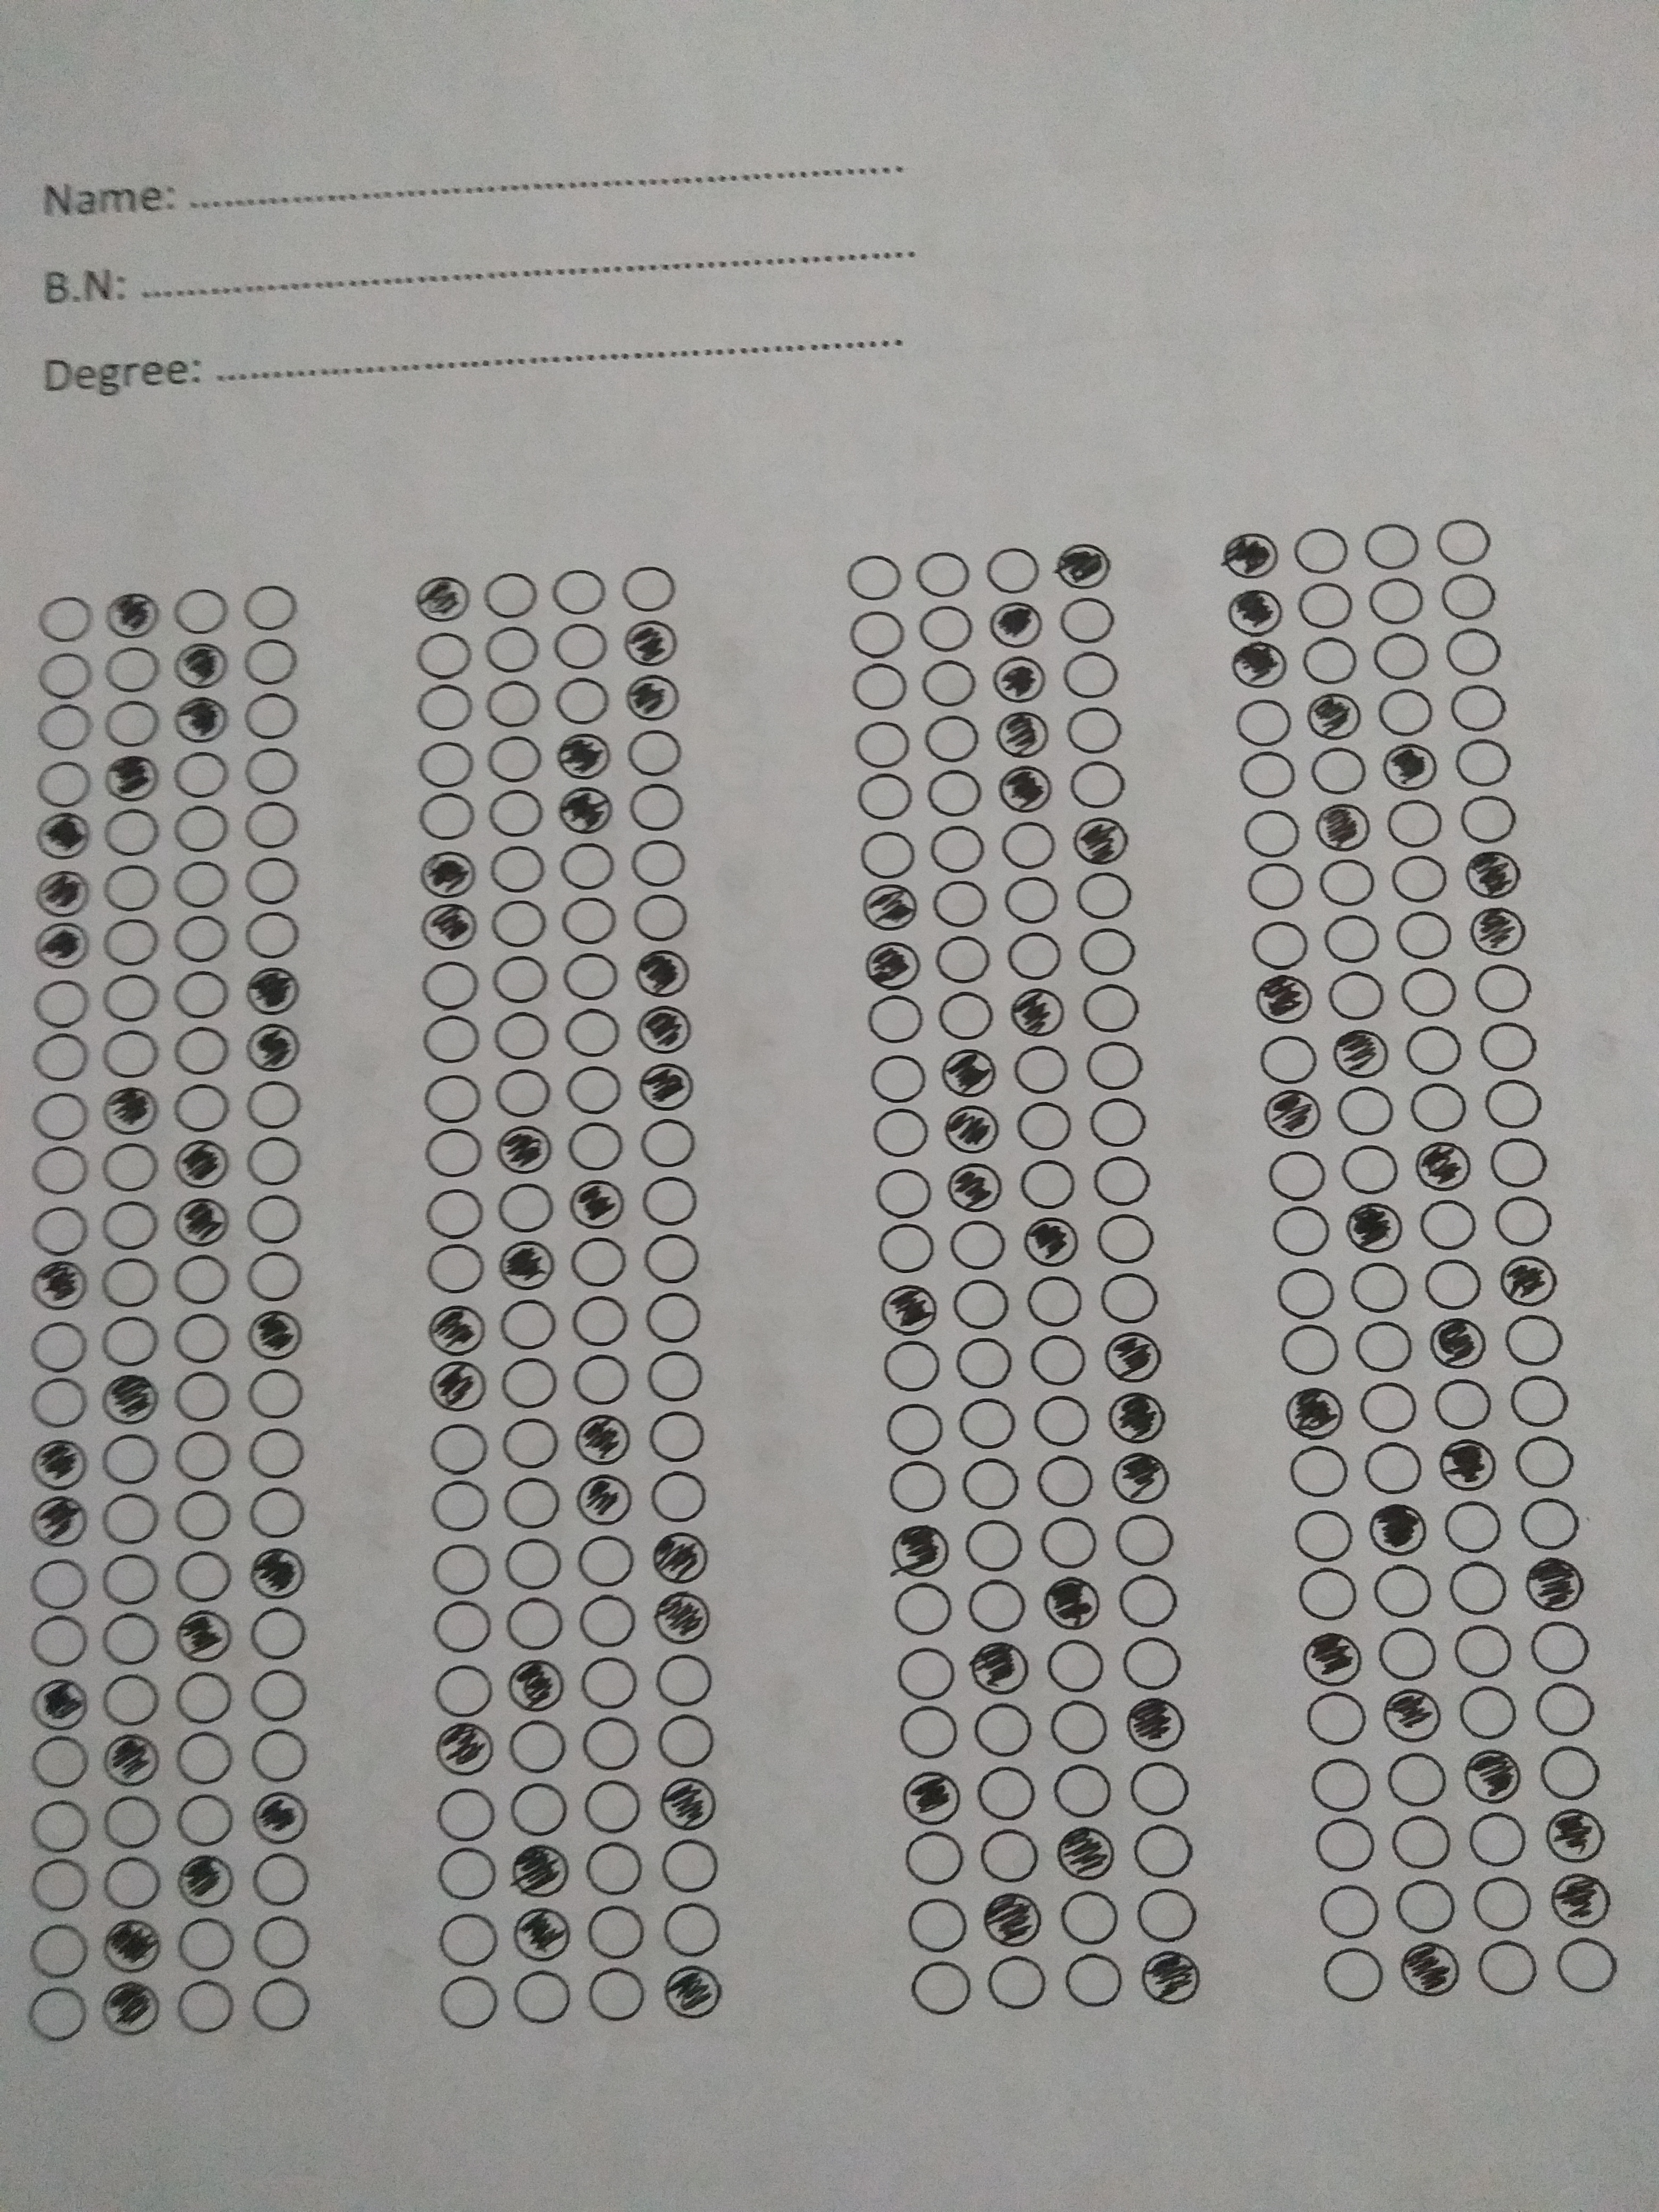not-c: (894, 1959, 981, 2019), (1302, 1817, 1380, 1881), (845, 824, 925, 887), (575, 1590, 645, 1660), (429, 1975, 507, 2036), (1058, 1954, 1136, 2015), (986, 1951, 1054, 2020), (26, 1986, 99, 2050), (427, 1785, 504, 1846), (885, 1642, 962, 1703), (662, 1900, 732, 1966), (880, 1456, 951, 1521), (577, 1841, 652, 1902), (99, 1545, 167, 1611), (584, 1966, 652, 2033), (1033, 1453, 1100, 1521), (173, 1975, 242, 2040), (1431, 507, 1500, 571), (1534, 1677, 1603, 1742), (240, 1367, 312, 1430), (641, 1413, 713, 1475), (1366, 568, 1429, 639), (17, 1738, 98, 1794), (92, 1200, 167, 1259), (622, 786, 697, 845), (247, 1669, 314, 1735), (512, 1966, 579, 2033), (1310, 1752, 1377, 1818), (957, 1453, 1021, 1521), (1114, 1510, 1178, 1578), (1049, 1696, 1117, 1761), (1359, 510, 1427, 575), (1518, 1493, 1586, 1557), (1471, 1872, 1539, 1937), (242, 1606, 312, 1669), (653, 1838, 723, 1900), (1115, 1571, 1185, 1634), (425, 1662, 497, 1723), (1087, 1209, 1159, 1270), (1098, 1273, 1169, 1334), (1030, 1331, 1091, 1402), (24, 592, 98, 651), (572, 1294, 636, 1360), (1121, 1632, 1185, 1698), (1049, 1756, 1114, 1822), (1134, 1885, 1202, 1947), (1488, 1191, 1556, 1254), (1471, 1937, 1539, 2000), (23, 1797, 92, 1858), (1127, 1756, 1197, 1817), (425, 1479, 497, 1538), (1286, 523, 1358, 582), (413, 1014, 486, 1071), (641, 1472, 716, 1527), (1009, 1043, 1073, 1108), (894, 1573, 958, 1637), (1436, 571, 1500, 636), (981, 538, 1047, 601), (880, 1399, 946, 1461), (650, 1651, 720, 1710), (1333, 1082, 1403, 1141), (234, 853, 305, 911), (974, 1827, 1046, 1885), (842, 545, 915, 601), (873, 1339, 946, 1395), (972, 1766, 1046, 1822), (1499, 1313, 1572, 1369), (1073, 928, 1148, 982), (23, 1317, 87, 1379), (655, 1714, 720, 1777), (1387, 1811, 1452, 1874), (1039, 1517, 1105, 1578), (171, 1254, 239, 1313), (99, 1318, 167, 1378), (633, 1176, 701, 1235), (641, 1350, 709, 1409), (958, 1519, 1026, 1578), (1316, 1881, 1384, 1940), (237, 798, 307, 855), (927, 932, 997, 989), (1129, 1824, 1199, 1881), (239, 1198, 310, 1254), (23, 1923, 94, 1979), (411, 791, 483, 846), (420, 1425, 491, 1480), (572, 1536, 643, 1592), (425, 1597, 497, 1653), (1253, 1029, 1324, 1085), (1478, 1075, 1549, 1130), (425, 1853, 504, 1904), (173, 965, 235, 1028), (240, 1134, 305, 1195), (552, 563, 613, 627), (423, 1184, 488, 1245), (1432, 1369, 1493, 1433), (967, 1573, 1026, 1639), (967, 1700, 1033, 1759), (899, 1829, 965, 1888), (1284, 1442, 1351, 1501), (641, 1294, 709, 1352), (96, 805, 166, 860), (638, 1235, 708, 1291), (423, 1540, 493, 1595), (1053, 596, 1122, 651), (890, 1703, 960, 1759), (1370, 1561, 1439, 1616), (1455, 1684, 1525, 1740), (164, 582, 235, 636), (502, 1719, 573, 1773), (1072, 871, 1143, 925), (19, 1381, 92, 1433), (173, 1670, 234, 1733), (500, 1414, 563, 1475), (863, 1052, 936, 1104), (1040, 1639, 1103, 1700), (1061, 1886, 1122, 1949), (1446, 1559, 1507, 1622), (1309, 1686, 1371, 1747), (493, 1181, 558, 1240), (584, 1777, 643, 1841), (906, 1893, 971, 1952), (1453, 1623, 1518, 1683), (1323, 1947, 1387, 2006), (239, 1249, 305, 1306), (246, 1489, 312, 1547), (249, 1979, 315, 2036), (507, 1592, 565, 1658), (850, 660, 917, 718), (1466, 1811, 1532, 1869), (416, 958, 484, 1014), (434, 1911, 502, 1966), (1291, 580, 1359, 636), (1293, 636, 1361, 691), (1523, 1618, 1591, 1674), (845, 772, 920, 822), (1009, 1104, 1084, 1155), (28, 1858, 98, 1912), (633, 1116, 702, 1170), (239, 745, 310, 798), (410, 735, 481, 787), (491, 951, 552, 1012), (1387, 1749, 1448, 1810), (173, 1491, 235, 1550), (251, 1853, 314, 1912), (239, 575, 303, 632), (103, 1857, 167, 1914), (559, 840, 617, 904), (493, 1014, 558, 1071), (500, 1299, 565, 1357), (999, 871, 1063, 928), (950, 1277, 1014, 1334), (1028, 1395, 1093, 1453), (1237, 806, 1302, 864), (1358, 1379, 1422, 1437), (1363, 1437, 1427, 1494), (1511, 1433, 1575, 1491), (247, 1730, 314, 1785), (1392, 1879, 1459, 1935), (26, 1148, 94, 1202), (167, 1735, 235, 1789), (1244, 920, 1312, 974), (1476, 1022, 1544, 1076), (1297, 1568, 1364, 1622), (859, 1109, 934, 1158), (620, 730, 690, 782), (584, 1907, 653, 1959), (1077, 986, 1147, 1038), (99, 1141, 160, 1200), (171, 1430, 232, 1489), (561, 948, 622, 1007), (918, 603, 978, 664), (955, 1334, 1016, 1393), (1422, 1254, 1483, 1313), (1441, 1496, 1502, 1555), (1539, 1743, 1600, 1803), (242, 1432, 314, 1482), (28, 1204, 91, 1261), (1459, 789, 1521, 846), (103, 1794, 167, 1850), (174, 1918, 239, 1973), (497, 1359, 561, 1414), (94, 862, 160, 916), (28, 979, 94, 1033), (99, 1435, 166, 1489), (26, 1615, 92, 1669), (1061, 702, 1127, 756), (1084, 1040, 1150, 1094), (1312, 853, 1378, 907), (1291, 1508, 1358, 1562), (619, 563, 687, 615), (1054, 651, 1122, 704), (1241, 860, 1309, 913), (235, 695, 310, 742), (235, 637, 305, 688), (504, 1477, 565, 1534), (1473, 963, 1534, 1021), (171, 1794, 234, 1850), (1406, 1082, 1469, 1137), (1556, 1937, 1619, 1993), (28, 1092, 92, 1146), (167, 1082, 232, 1136), (98, 1676, 162, 1730), (420, 1245, 484, 1299), (568, 1237, 633, 1291), (570, 1353, 634, 1407), (500, 1536, 565, 1590), (915, 660, 979, 714), (1065, 761, 1129, 815), (1084, 1096, 1148, 1150), (1389, 853, 1453, 907), (1276, 1264, 1340, 1318), (1277, 1324, 1342, 1378), (167, 749, 234, 801), (237, 1078, 303, 1130), (169, 1555, 235, 1608), (565, 1068, 631, 1120), (1307, 749, 1373, 801), (584, 1717, 643, 1775), (1398, 963, 1457, 1021), (411, 685, 481, 733), (486, 786, 547, 841), (629, 894, 690, 949), (1378, 1625, 1439, 1681), (167, 911, 230, 965), (99, 970, 162, 1024), (98, 1615, 160, 1669), (253, 1918, 315, 1972), (554, 678, 617, 732), (864, 996, 927, 1050), (171, 1026, 235, 1078), (98, 1491, 162, 1543), (511, 1782, 575, 1834), (870, 1169, 934, 1221), (626, 840, 697, 887), (99, 702, 166, 752), (26, 1033, 92, 1083), (1452, 737, 1518, 787), (847, 719, 915, 768), (99, 1024, 160, 1078), (1006, 930, 1066, 984), (1387, 798, 1448, 852), (1324, 970, 1385, 1024), (1506, 1379, 1567, 1433), (239, 914, 301, 967), (1236, 693, 1298, 745), (1405, 1024, 1467, 1076), (1352, 1322, 1415, 1374), (99, 918, 164, 968), (171, 1374, 235, 1425), (927, 880, 992, 930), (28, 704, 94, 752), (873, 1224, 939, 1273), (1237, 751, 1303, 799), (105, 643, 162, 698), (1267, 1148, 1324, 1204), (1270, 1204, 1328, 1259), (174, 857, 234, 911), (173, 1315, 232, 1369), (422, 1076, 490, 1123), (924, 768, 985, 820), (94, 1258, 157, 1308), (486, 733, 549, 784), (957, 1399, 1019, 1449), (35, 653, 101, 700), (481, 622, 538, 676), (565, 1008, 622, 1062), (1446, 679, 1504, 733), (1398, 907, 1455, 961), (1420, 1198, 1478, 1252), (415, 629, 474, 681), (1093, 1157, 1152, 1209), (1026, 1271, 1086, 1324), (1324, 913, 1384, 965), (484, 899, 545, 949), (849, 608, 910, 658), (934, 989, 995, 1040), (1377, 688, 1438, 738), (1342, 1144, 1403, 1195), (561, 897, 624, 946), (425, 1129, 488, 1177), (1368, 634, 1432, 681), (1443, 629, 1509, 674), (1002, 820, 1061, 871), (1347, 1263, 1406, 1313), (31, 758, 92, 806), (481, 571, 544, 618), (565, 1122, 627, 1169), (579, 1660, 641, 1707), (917, 547, 971, 601), (922, 714, 978, 766), (1490, 1137, 1547, 1188), (171, 801, 230, 850), (484, 679, 544, 728), (486, 845, 545, 894), (951, 1221, 1007, 1271), (929, 827, 986, 876), (28, 1559, 87, 1606), (493, 1071, 549, 1120), (1019, 1160, 1077, 1207), (554, 622, 606, 672)
taken-c: (99, 1975, 164, 2038), (1138, 1946, 1202, 2008), (878, 1277, 943, 1338), (1549, 1869, 1614, 1930), (1523, 1552, 1584, 1615), (1425, 1313, 1490, 1372), (901, 1761, 962, 1822), (103, 1916, 166, 1975), (662, 1963, 725, 2022), (971, 1639, 1033, 1698), (1544, 1804, 1607, 1864), (1462, 1747, 1525, 1806), (1380, 1684, 1443, 1743), (1284, 1383, 1347, 1442), (1436, 1435, 1500, 1493), (1492, 1254, 1561, 1306), (176, 1850, 237, 1909), (1103, 1327, 1164, 1386), (99, 1369, 162, 1426), (432, 1721, 495, 1778), (1105, 1386, 1168, 1444), (1040, 1573, 1103, 1630), (983, 1890, 1046, 1947), (1399, 1940, 1462, 1998), (1366, 1501, 1429, 1559), (24, 1493, 89, 1548), (425, 1305, 490, 1360), (103, 1731, 162, 1791), (573, 1409, 633, 1468), (173, 1195, 234, 1252), (28, 1256, 89, 1313), (30, 1435, 91, 1493), (511, 1841, 572, 1898), (652, 1531, 713, 1588), (429, 1357, 490, 1414), (889, 1524, 951, 1580), (1126, 1698, 1188, 1754), (246, 1306, 305, 1364), (514, 1905, 572, 1965), (1056, 1824, 1115, 1881), (174, 1609, 235, 1665), (657, 1775, 718, 1831), (505, 1658, 566, 1714), (652, 1590, 713, 1646), (1112, 1449, 1173, 1505), (1302, 1630, 1363, 1686), (1415, 1136, 1476, 1191), (631, 948, 694, 1001), (1070, 813, 1134, 866), (173, 1136, 232, 1191), (247, 1545, 307, 1601), (946, 1162, 1006, 1217), (101, 1083, 162, 1137), (30, 1677, 91, 1731), (992, 707, 1053, 761), (1253, 974, 1316, 1026), (1467, 906, 1530, 958), (1225, 585, 1288, 637), (169, 641, 234, 691), (416, 850, 481, 900), (620, 617, 680, 671), (415, 570, 474, 624), (1056, 538, 1115, 592), (863, 939, 922, 993), (1345, 1197, 1399, 1256), (1222, 528, 1281, 582), (242, 1021, 303, 1073), (1007, 988, 1068, 1040), (941, 1103, 1002, 1155), (1263, 1089, 1324, 1141), (1331, 1028, 1392, 1080), (1380, 740, 1441, 792), (1229, 641, 1291, 691), (941, 1045, 997, 1101), (575, 1472, 633, 1526), (570, 1177, 627, 1231), (636, 1001, 694, 1055), (171, 693, 230, 745), (31, 867, 91, 920), (251, 1792, 310, 1844), (497, 1122, 556, 1174), (638, 1061, 697, 1113), (556, 784, 615, 836), (556, 730, 615, 782), (861, 881, 920, 934), (1314, 801, 1373, 853), (1462, 850, 1525, 899), (246, 963, 303, 1015), (498, 1238, 556, 1291), (420, 899, 477, 951), (992, 653, 1049, 705), (622, 672, 681, 723), (35, 810, 91, 862), (33, 920, 91, 970), (997, 763, 1054, 813), (1305, 691, 1363, 742), (986, 603, 1046, 651), (105, 590, 160, 641), (105, 754, 160, 803), (1021, 1219, 1072, 1268)
